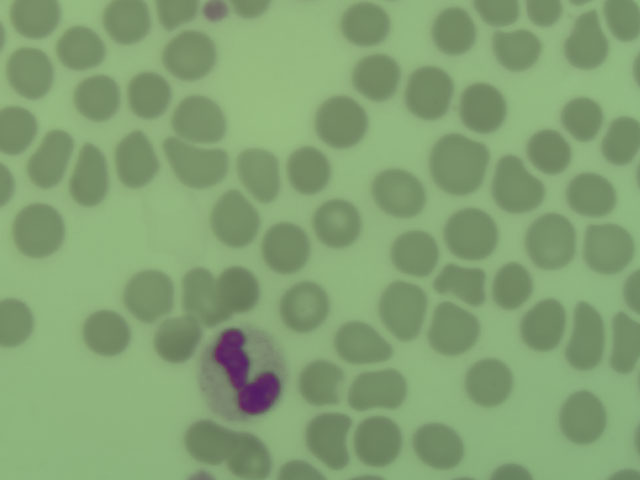RBC: (349, 363, 408, 410), (566, 303, 605, 369), (444, 209, 493, 260), (582, 219, 631, 270), (519, 128, 568, 179), (490, 162, 539, 213), (525, 211, 574, 262), (429, 136, 478, 187), (460, 351, 509, 402), (307, 409, 356, 460), (352, 413, 401, 464), (427, 303, 476, 354), (14, 207, 66, 255), (379, 229, 431, 277), (378, 281, 430, 329), (333, 316, 385, 364), (276, 278, 328, 326), (374, 170, 426, 218), (311, 195, 363, 243), (313, 94, 365, 142), (278, 145, 330, 193), (125, 71, 177, 119), (72, 72, 124, 120), (229, 149, 281, 197), (173, 267, 225, 315), (211, 264, 263, 312), (262, 223, 314, 271), (207, 193, 259, 241), (121, 267, 173, 315), (77, 311, 129, 359), (173, 96, 225, 144), (167, 30, 219, 78), (557, 18, 609, 66), (488, 29, 540, 77), (565, 169, 617, 217), (411, 422, 463, 470), (226, 432, 278, 480), (181, 420, 233, 468), (426, 8, 478, 56), (340, 1, 392, 49), (456, 82, 508, 130), (352, 53, 404, 101), (404, 65, 456, 113), (558, 392, 610, 440), (56, 24, 108, 72), (170, 145, 222, 193), (154, 316, 206, 364), (6, 47, 58, 95), (101, 1, 153, 48), (71, 144, 110, 206), (520, 298, 562, 355), (597, 112, 640, 166), (117, 134, 157, 186), (493, 256, 527, 313), (297, 364, 348, 402), (559, 93, 601, 138), (11, 1, 59, 38), (1, 100, 32, 153), (1, 299, 31, 346), (155, 1, 198, 27), (486, 460, 535, 480), (233, 1, 270, 18)
WBC: (203, 336, 288, 412)
